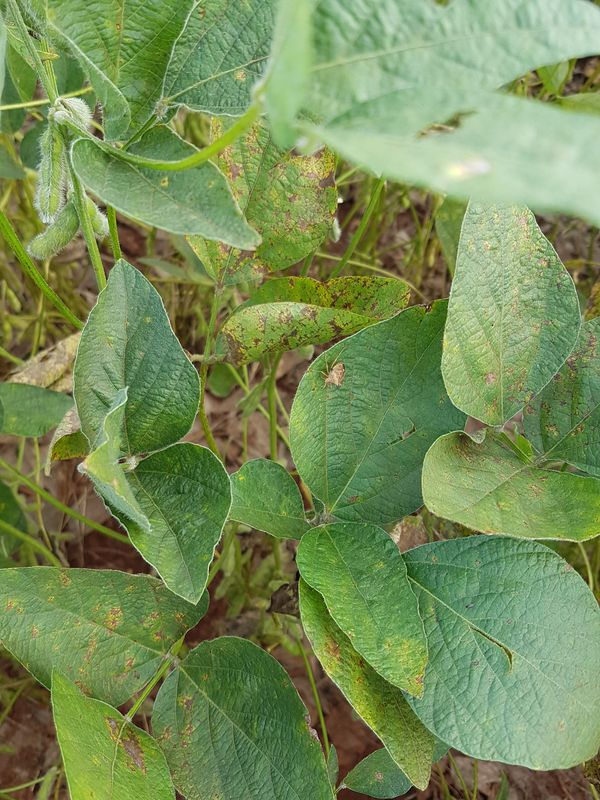Euschistus_heros_adulto: (309, 345, 357, 394)
